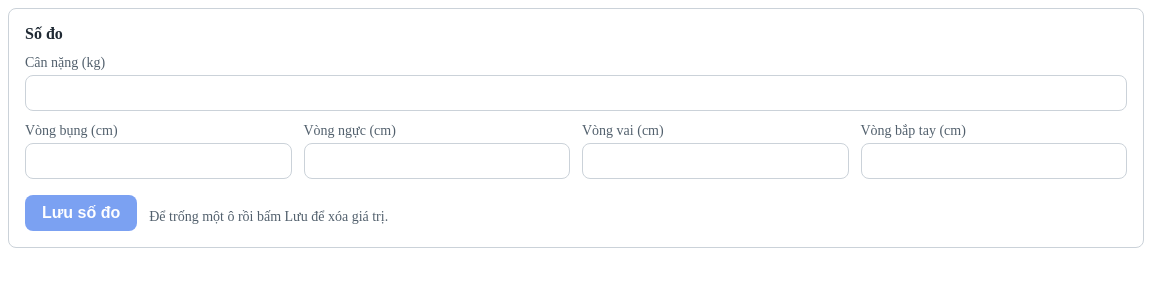
Test: BodyLogForm — lỗi 400 hiện dưới đúng ô + aria-invalid (bẫy B2 #4) › server trả 400 fields weightKg → ô cân nặng có aria-invalid và message, focus chuyển tới ô đó
In the number field labelled "Cân nặng (kg)": (576, 93) left=25, top=75, right=1127, bottom=111, type "-5"
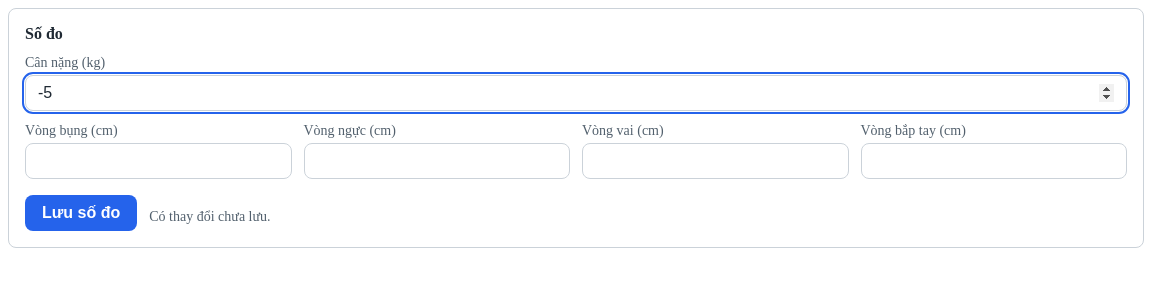
Lưu-khi-blur đã bị bỏ (Task 2) — lỗi chỉ xuất hiện sau khi bấm nút Lưu.
Click the button "Lưu số đo": (81, 213) left=25, top=195, right=137, bottom=231
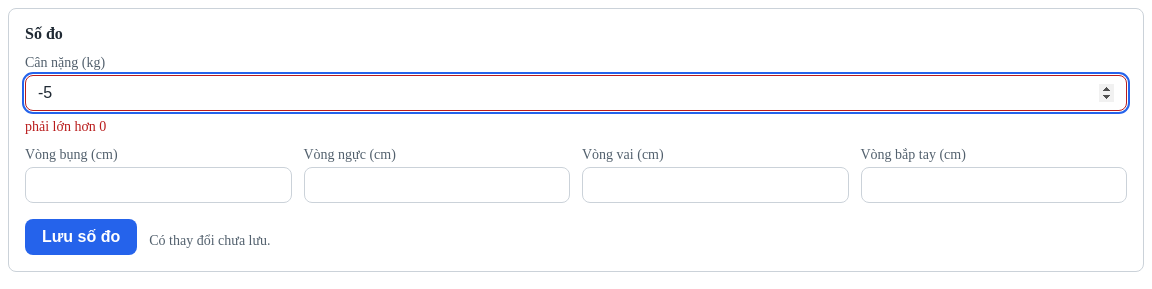
Expected: the text "phải lớn hơn 0" is shown, left=25, top=119, right=106, bottom=134
